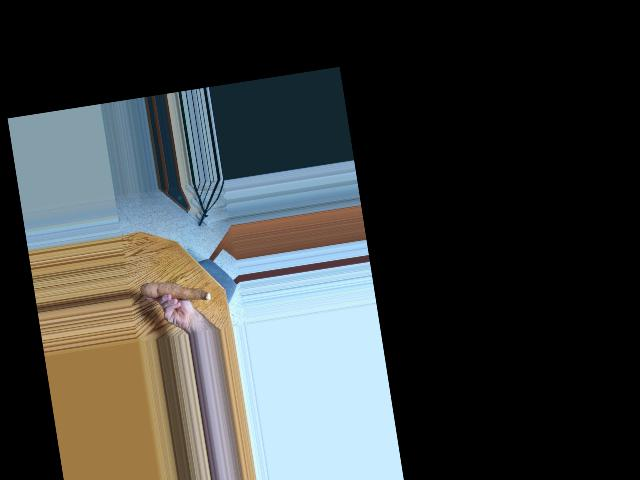sweet_potato: (140, 270, 213, 312)
